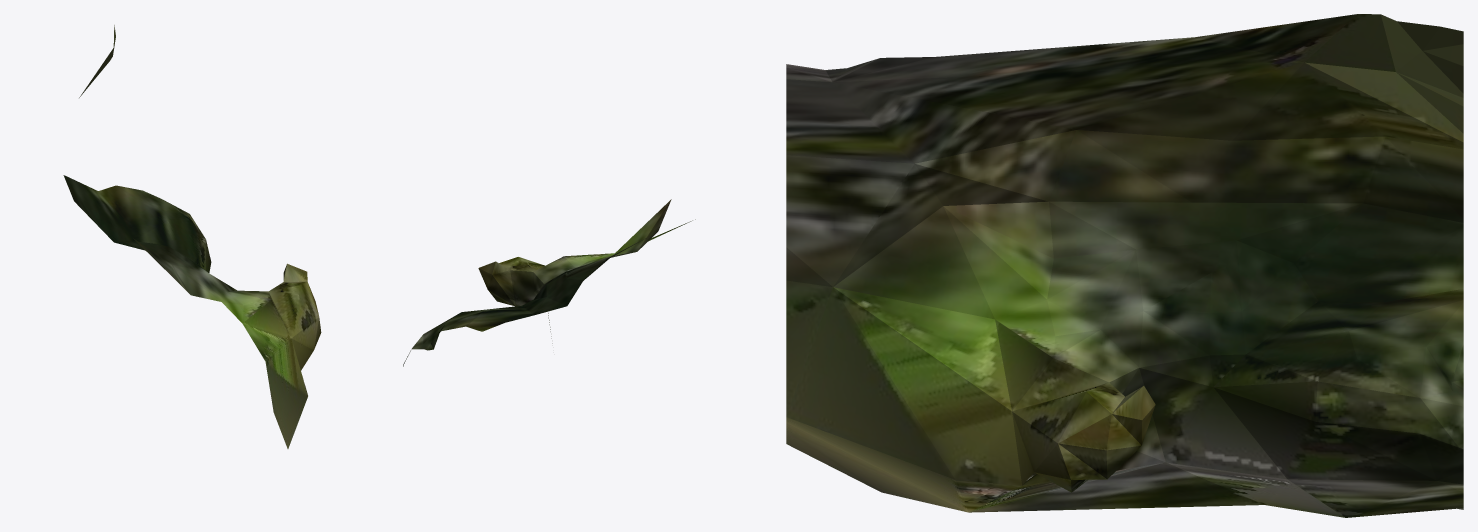
3 views of the same model, side by side, from view 1: azimuth 30°, elevation 25°; view 2: azimuth 150°, elevation 25°; view 3: azimuth 270°, elevation 25° (orthographic). The views are drawn at different scales.
Bounding box in the file's own units: 0.8541 × 1.52 × 1.67.
Materials: 3 (3 with a texture image).
